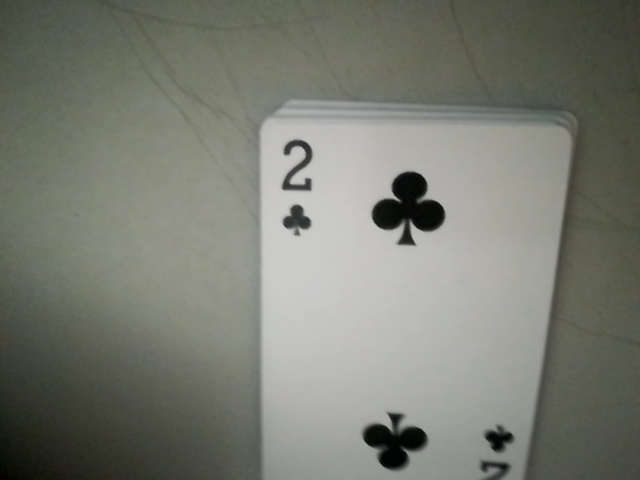mh 2: (261, 126, 325, 245)
